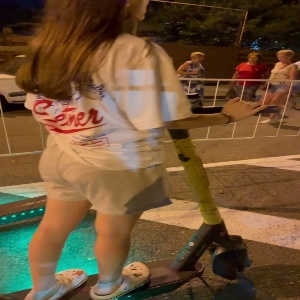human on a scooter: (1, 1, 280, 300)
